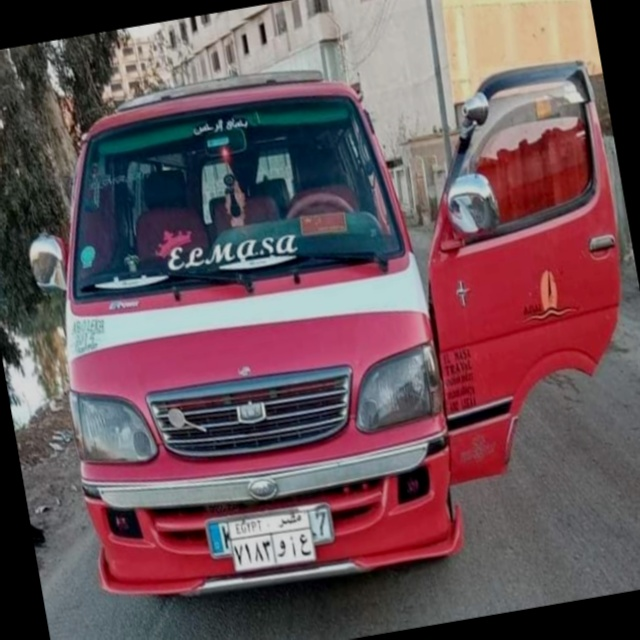License Plate: (225, 504, 318, 578)
